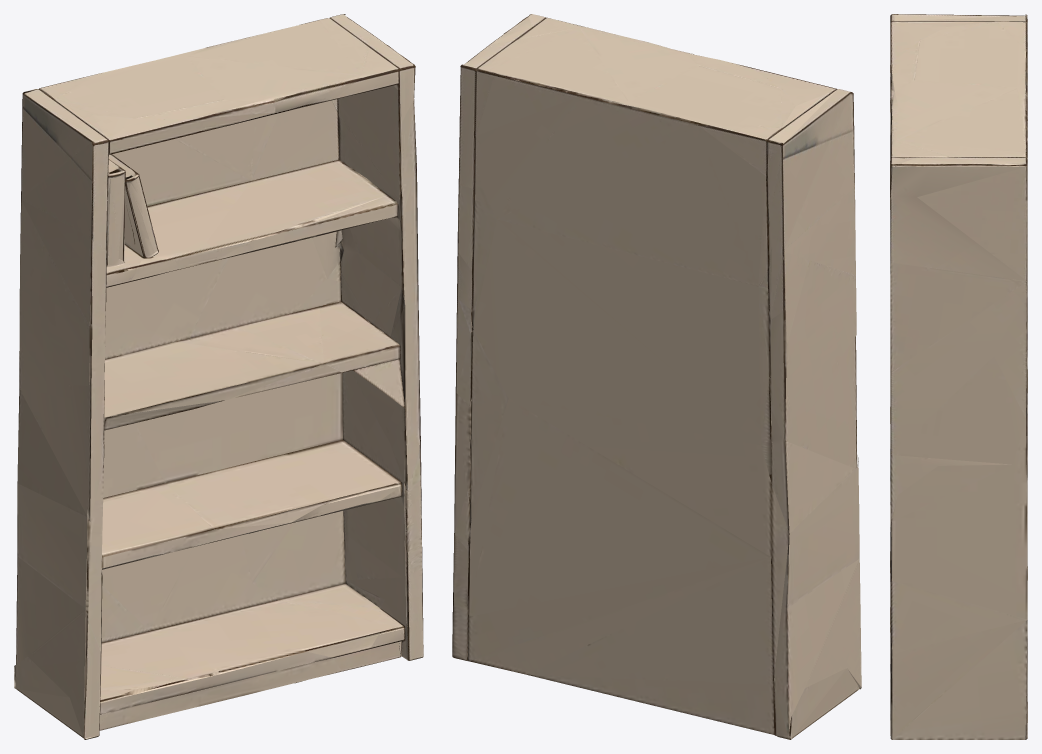
Rendered from bookshelf.glb.
The picture shows the model from 3 angles, left to right: view 1: azimuth 30°, elevation 25°; view 2: azimuth 150°, elevation 25°; view 3: azimuth 270°, elevation 25°; orthographic projection. The views are drawn at different scales.
Bounding box in the file's own units: 1.14 × 1.9 × 0.4152.
1 material, 1 textured.
